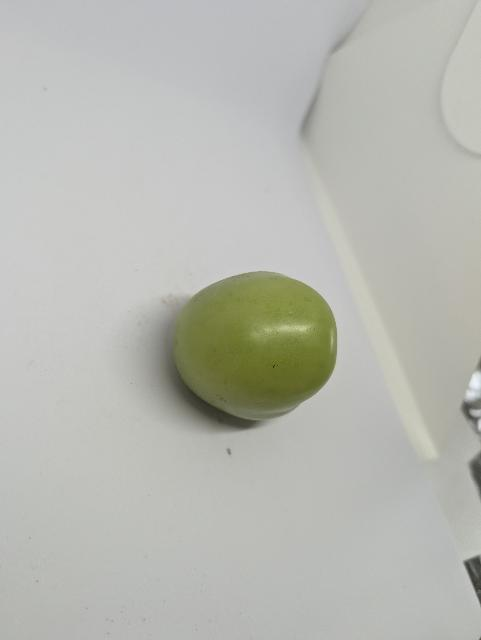green: (157, 260, 347, 435)
